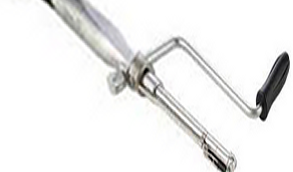Screwdriver: (48, 1, 290, 171)
